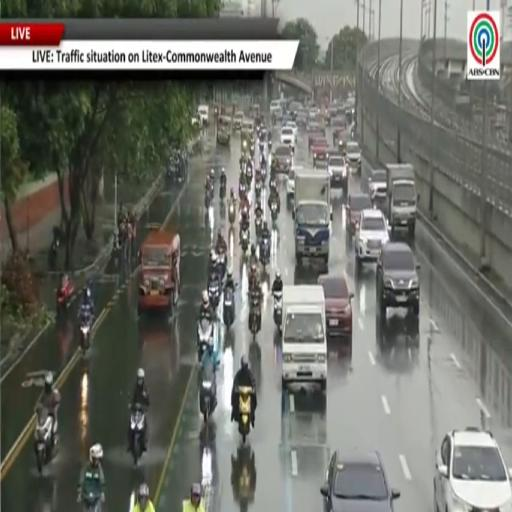car: (434, 427, 511, 511), (321, 451, 400, 511), (138, 225, 180, 314), (376, 243, 419, 321), (318, 275, 353, 353), (355, 208, 389, 268), (346, 194, 372, 236), (328, 153, 347, 195), (368, 169, 386, 210), (273, 146, 292, 173), (286, 167, 302, 199), (312, 137, 329, 166), (346, 141, 361, 172), (280, 125, 294, 146), (308, 132, 323, 151), (232, 111, 244, 131), (198, 104, 209, 125), (286, 121, 297, 141), (296, 110, 308, 127), (307, 119, 320, 133), (270, 100, 282, 115), (309, 107, 318, 119), (282, 114, 291, 125), (192, 115, 200, 126)
motorcycle: (231, 445, 256, 509), (35, 408, 56, 474), (199, 362, 217, 423), (130, 405, 145, 466), (239, 387, 253, 443), (197, 318, 213, 362), (57, 282, 73, 316), (81, 485, 101, 511), (249, 293, 260, 340), (223, 287, 235, 330), (80, 315, 92, 354), (208, 279, 220, 309), (273, 292, 282, 331), (48, 239, 58, 271), (259, 237, 269, 269), (249, 264, 258, 292), (218, 251, 226, 280), (228, 202, 236, 226), (241, 230, 249, 254), (255, 216, 263, 238), (260, 161, 267, 182), (271, 201, 278, 222), (255, 180, 262, 200), (205, 189, 212, 209), (239, 181, 246, 200), (246, 166, 253, 183), (220, 183, 226, 200), (249, 142, 255, 159), (270, 176, 277, 190), (259, 141, 264, 157), (268, 140, 272, 151)
truck: (281, 285, 327, 390), (292, 169, 332, 265), (386, 164, 417, 238)
